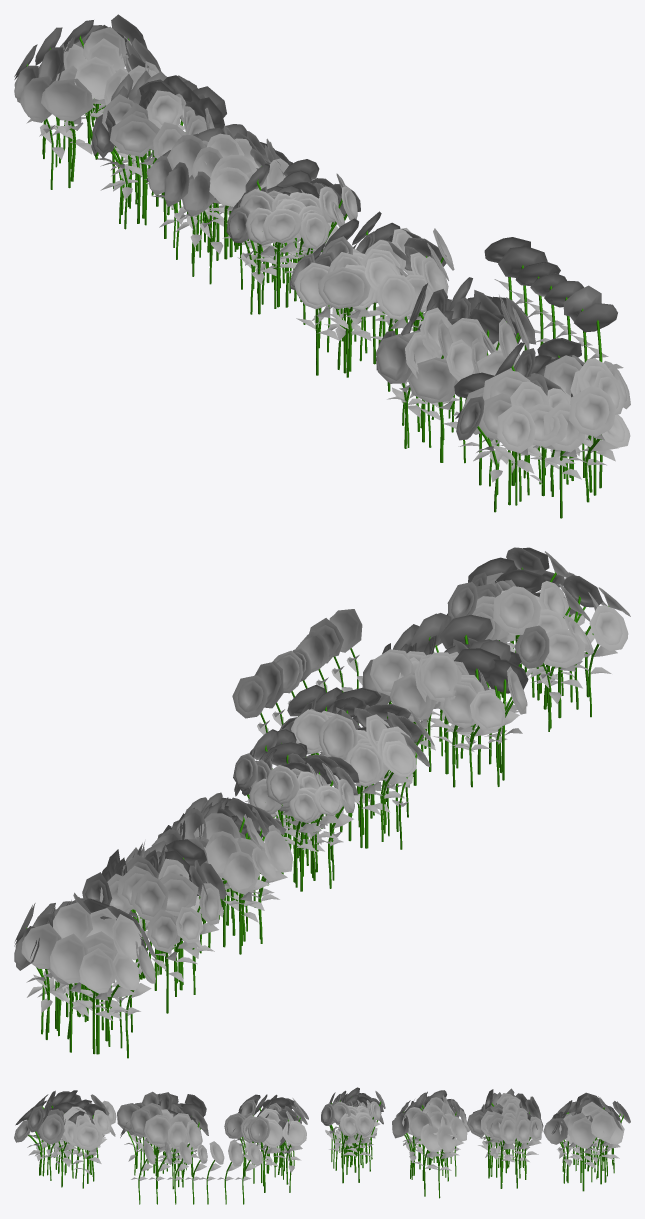
Rendered from park_flower_LOD.fbx.
3 views of the same model, one above another, from view 1: azimuth 30°, elevation 25°; view 2: azimuth 150°, elevation 25°; view 3: azimuth 270°, elevation 25° (orthographic). The views are drawn at different scales.
Parts seen in each view (by area): view 1: park_flower_yellow_LOD0, park_flower_pink_01_LOD0, park_flower_pink_02_LOD0, park_flower_orange_02_LOD0, park_flower_orange_01_LOD0, park_flower_red_LOD0, park_flower_purple_LOD0, flower_pink_02_LOD0, flower_orange_02_LOD0, flower_purple_LOD0, flower_pink_01_LOD0, flower_yellow_LOD0 (+2 smaller); view 2: park_flower_pink_02_LOD0, park_flower_yellow_LOD0, park_flower_orange_02_LOD0, park_flower_pink_01_LOD0, park_flower_purple_LOD0, park_flower_red_LOD0, park_flower_orange_01_LOD0, flower_yellow_LOD0, flower_orange_02_LOD0, flower_pink_02_LOD0, flower_purple_LOD0, flower_orange_01_LOD0 (+1 smaller); view 3: park_flower_yellow_LOD0, park_flower_pink_02_LOD0, park_flower_orange_02_LOD0, park_flower_pink_01_LOD0, park_flower_orange_01_LOD0, park_flower_purple_LOD0, park_flower_red_LOD0, flower_pink_02_LOD0, flower_yellow_LOD0, flower_pink_01_LOD0, flower_orange_01_LOD0, flower_orange_02_LOD0 (+2 smaller).
Part boxes in pixels (x1,y1,x2,y2): park_flower_yellow_LOD0: [454, 338, 630, 518]; park_flower_pink_01_LOD0: [290, 211, 454, 391]; park_flower_pink_02_LOD0: [375, 277, 535, 463]; park_flower_orange_02_LOD0: [14, 14, 160, 189]; park_flower_orange_01_LOD0: [146, 124, 292, 289]; park_flower_red_LOD0: [226, 159, 360, 324]; park_flower_purple_LOD0: [91, 70, 226, 238]; flower_pink_02_LOD0: [498, 246, 548, 350]; flower_orange_02_LOD0: [574, 303, 623, 368]; flower_purple_LOD0: [563, 285, 608, 362]; flower_pink_01_LOD0: [515, 261, 564, 345]; flower_yellow_LOD0: [484, 237, 533, 303]; park_flower_pink_02_LOD0: [362, 613, 528, 787]; park_flower_yellow_LOD0: [447, 547, 630, 731]; park_flower_orange_02_LOD0: [14, 892, 157, 1058]; park_flower_pink_01_LOD0: [279, 685, 434, 849]; park_flower_purple_LOD0: [82, 839, 226, 1013]; park_flower_red_LOD0: [233, 729, 359, 891]; park_flower_orange_01_LOD0: [151, 792, 292, 954]; flower_yellow_LOD0: [232, 675, 269, 734]; flower_orange_02_LOD0: [329, 609, 362, 688]; flower_pink_02_LOD0: [254, 661, 284, 726]; flower_purple_LOD0: [309, 618, 352, 692]; flower_orange_01_LOD0: [296, 632, 328, 692]; park_flower_yellow_LOD0: [14, 1090, 116, 1188]; park_flower_pink_02_LOD0: [117, 1091, 208, 1189]; park_flower_orange_02_LOD0: [543, 1092, 630, 1191]; park_flower_pink_01_LOD0: [224, 1094, 308, 1192]; park_flower_orange_01_LOD0: [392, 1090, 469, 1198]; park_flower_purple_LOD0: [467, 1088, 543, 1188]; park_flower_red_LOD0: [321, 1087, 385, 1183]; flower_pink_02_LOD0: [217, 1139, 243, 1204]; flower_yellow_LOD0: [235, 1142, 262, 1204]; flower_pink_01_LOD0: [199, 1141, 224, 1204]; flower_orange_01_LOD0: [167, 1141, 192, 1204]; flower_orange_02_LOD0: [131, 1140, 155, 1204].
Size of what is drawn, in the model's own units: 77.78 by 52.77 by 312.
